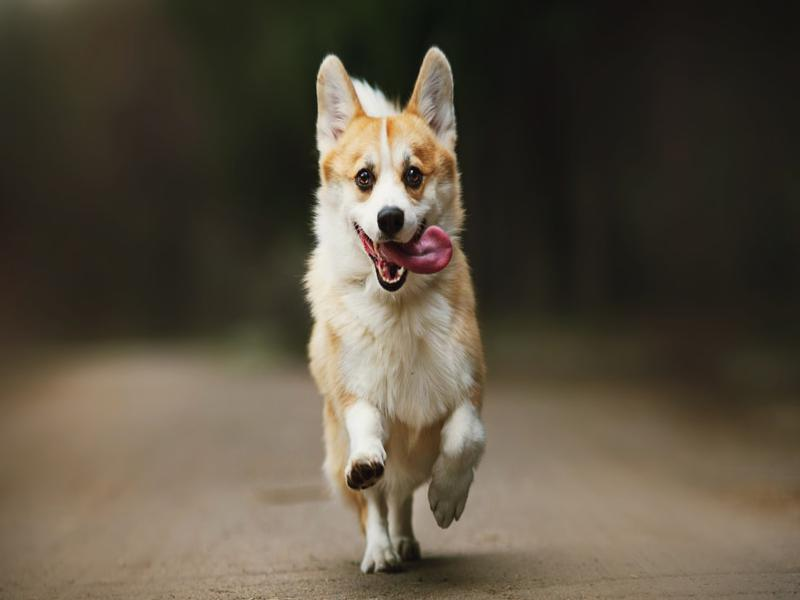corgi: (314, 45, 469, 293)
